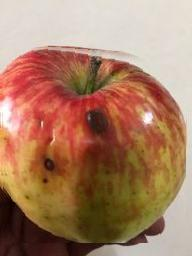Apple Semifresh: (0, 43, 186, 243)
